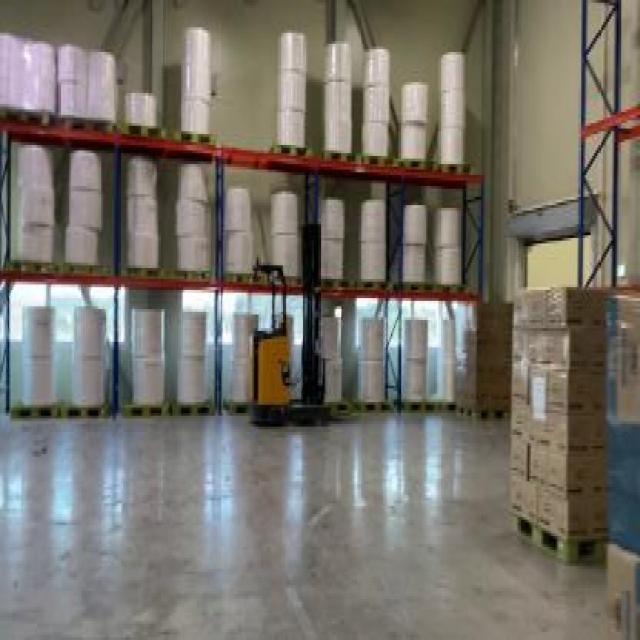box: (509, 287, 611, 566), (598, 293, 638, 637), (456, 295, 516, 416)
robot: (249, 219, 363, 429)
white_roll: (278, 28, 470, 172), (3, 17, 223, 142), (14, 145, 214, 276), (226, 189, 466, 290), (226, 309, 459, 410), (22, 298, 218, 416)
